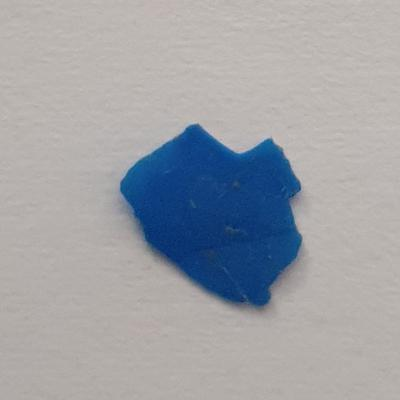plastic: (117, 121, 315, 319)
